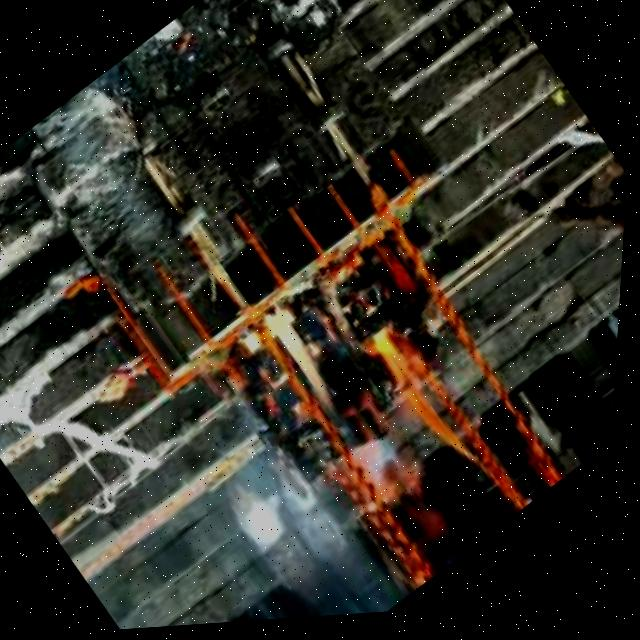Fire: (230, 237, 499, 534)
